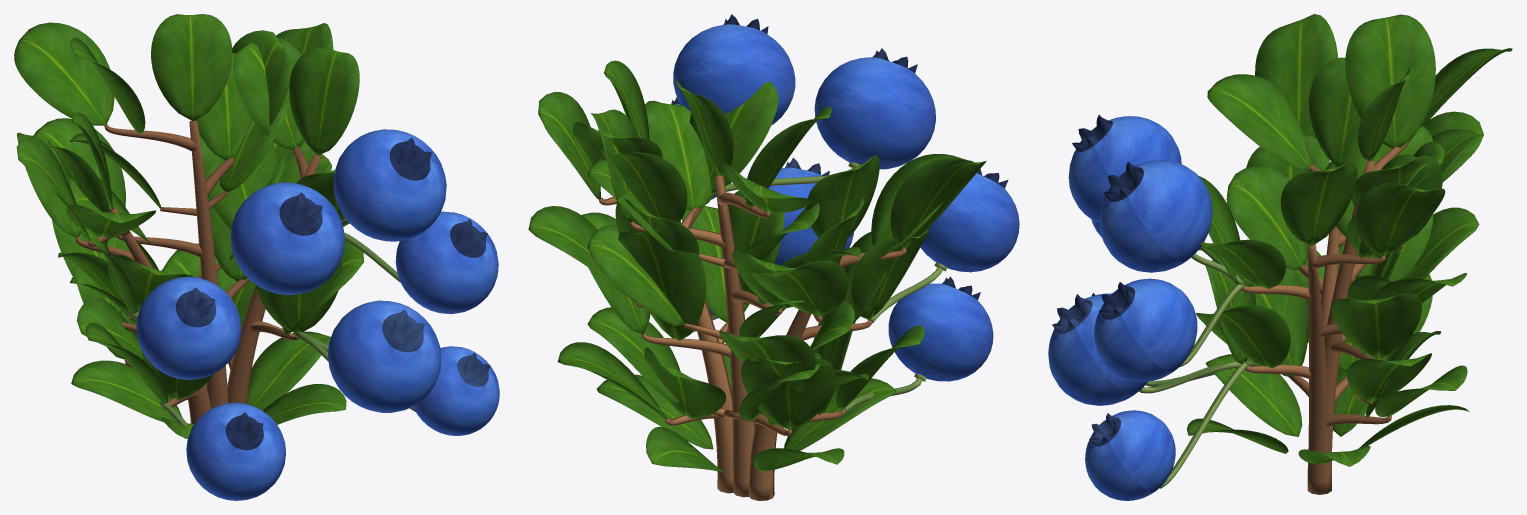
Rendered from NP_Blueberry_Ready.fbx.
3 renders of one model, left to right at view 1: azimuth 30°, elevation 25°; view 2: azimuth 150°, elevation 25°; view 3: azimuth 270°, elevation 25°, orthographic. The views are drawn at different scales.
Visible parts, largest first — view 1: NP_Blueberry_Ready; view 2: NP_Blueberry_Ready; view 3: NP_Blueberry_Ready.
Boxes of the visible parts, x1,y1,x2,y2 form: NP_Blueberry_Ready: [14, 14, 499, 500]; NP_Blueberry_Ready: [528, 14, 1019, 500]; NP_Blueberry_Ready: [1048, 14, 1512, 500].
Bounding box in the file's own units: 91.48 × 89.44 × 90.77.
